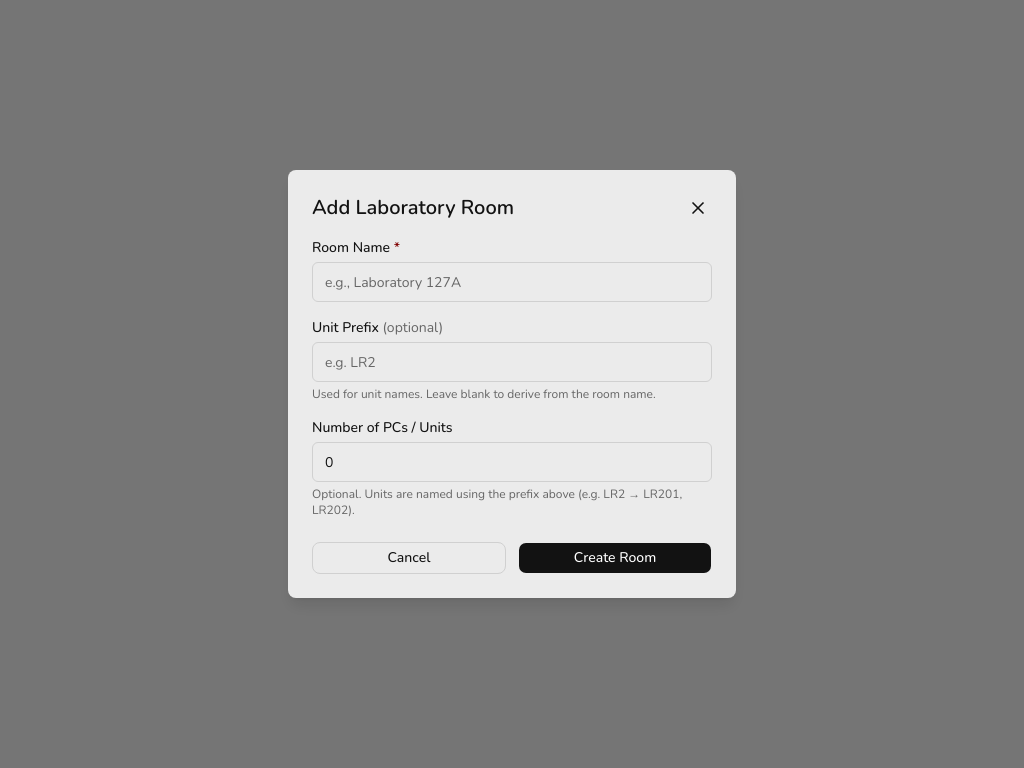
Test: AddRoomForm › previews generated unit names from the room name and count
The image size is (1024, 768).
Type "LR2" into the field labelled "Room Name *".
click(512, 282); type("LR2")  # box [312,262,712,302]
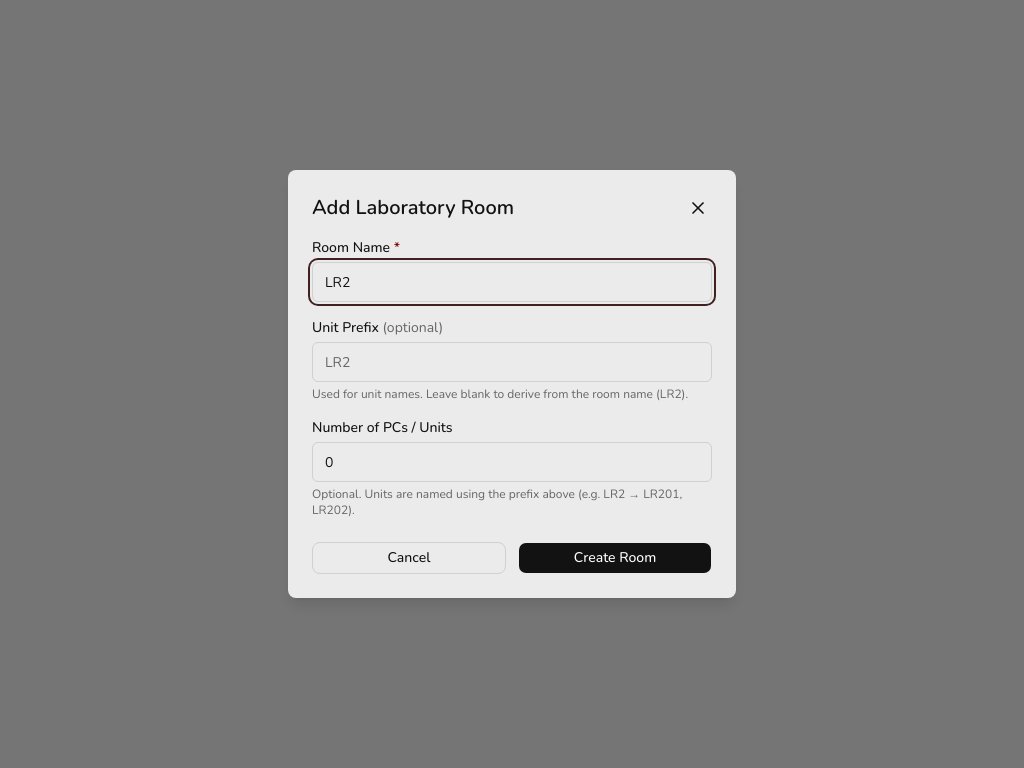
Replace the text in the number field labelled "Number of PCs / Units" with "3" at [512, 462], box [312,442,712,482]
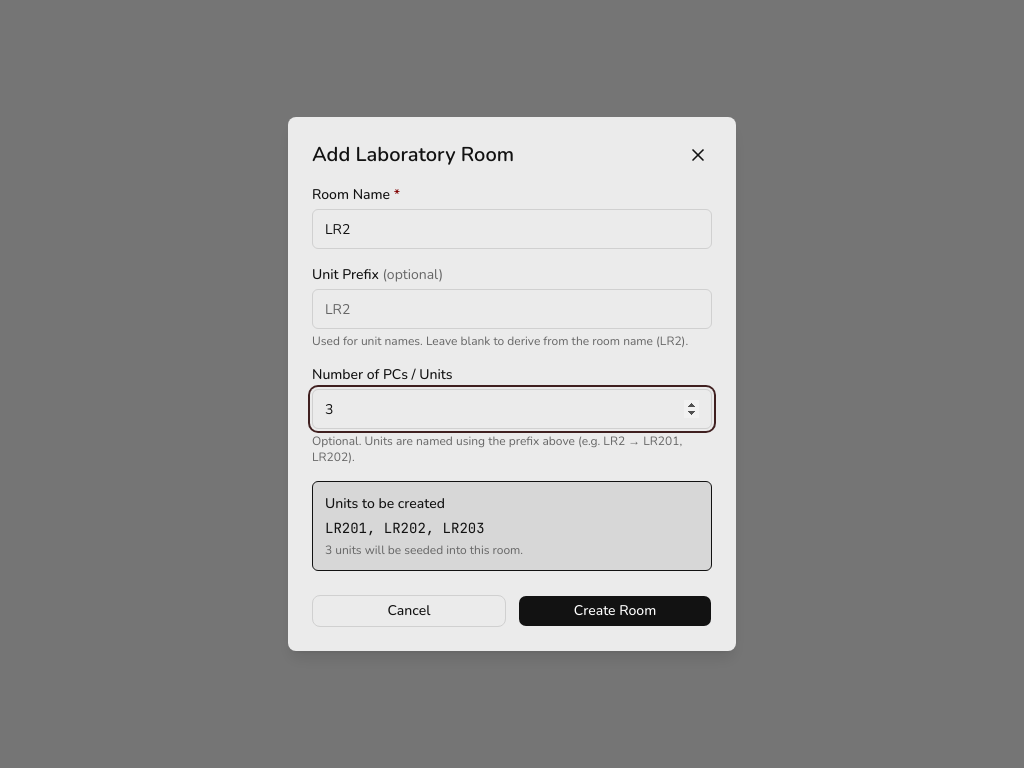
Now the text "Units to be created" is shown, box [325,494,445,513]
Now the text "LR201, LR202, LR203" is shown, box [325,519,485,537]
